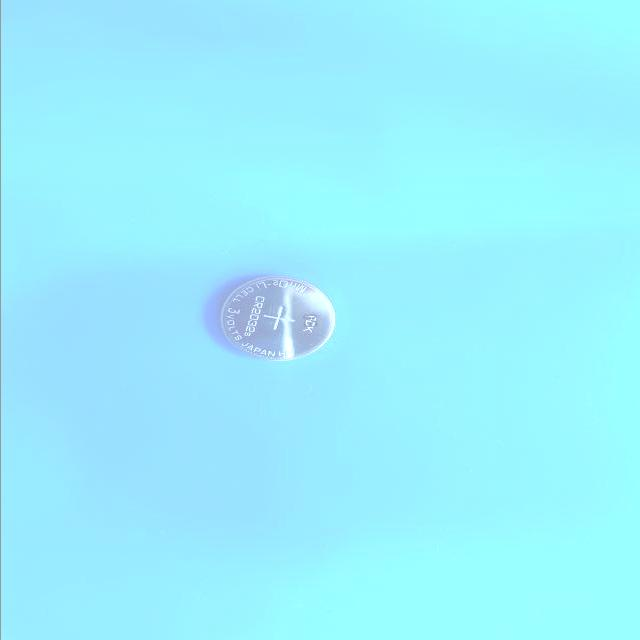COIN: (218, 275, 339, 362)
